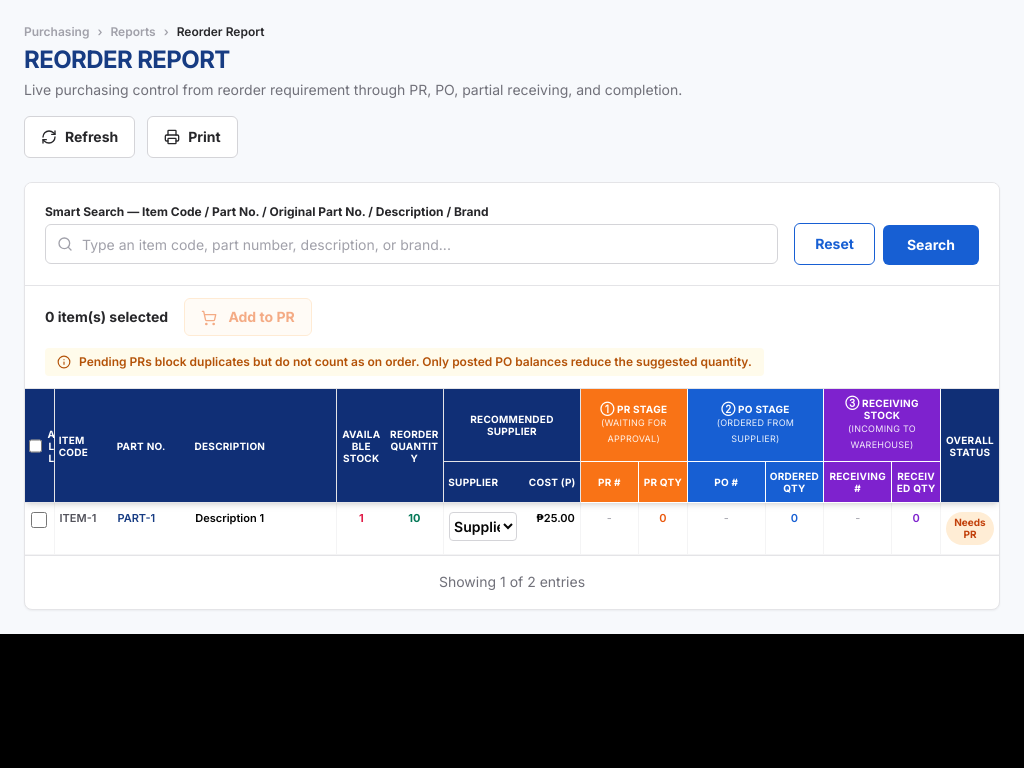
Test case: ReorderReport automatic loading › keeps Add to PR accessible above the list while more items load
This screenshot has width=1024, height=768.
Expected: the text "ITEM-1" is shown, [54,502,113,554]
Click the checkbox named "Select ITEM-1".
click(39, 520)  # box [31,512,47,528]
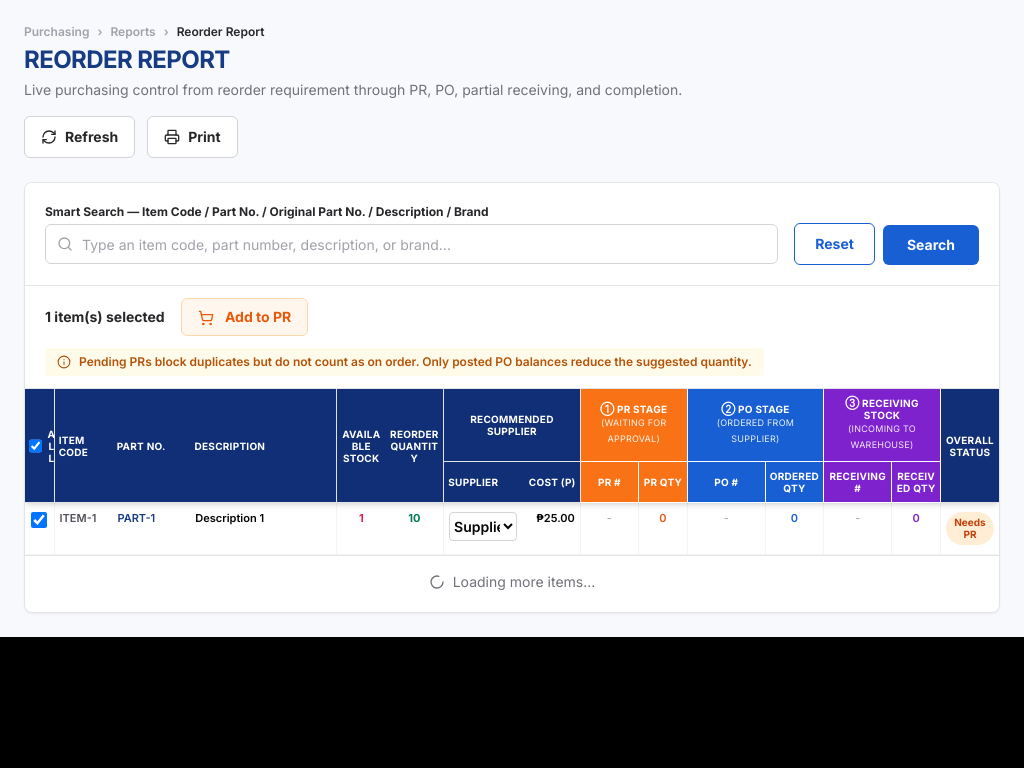
Result: the button "Add to PR" is enabled
Result: the text "Loading more items..." is shown at [429,572,595,592]
Click the button "Add to PR".
click(244, 317)  # box [181,298,308,336]
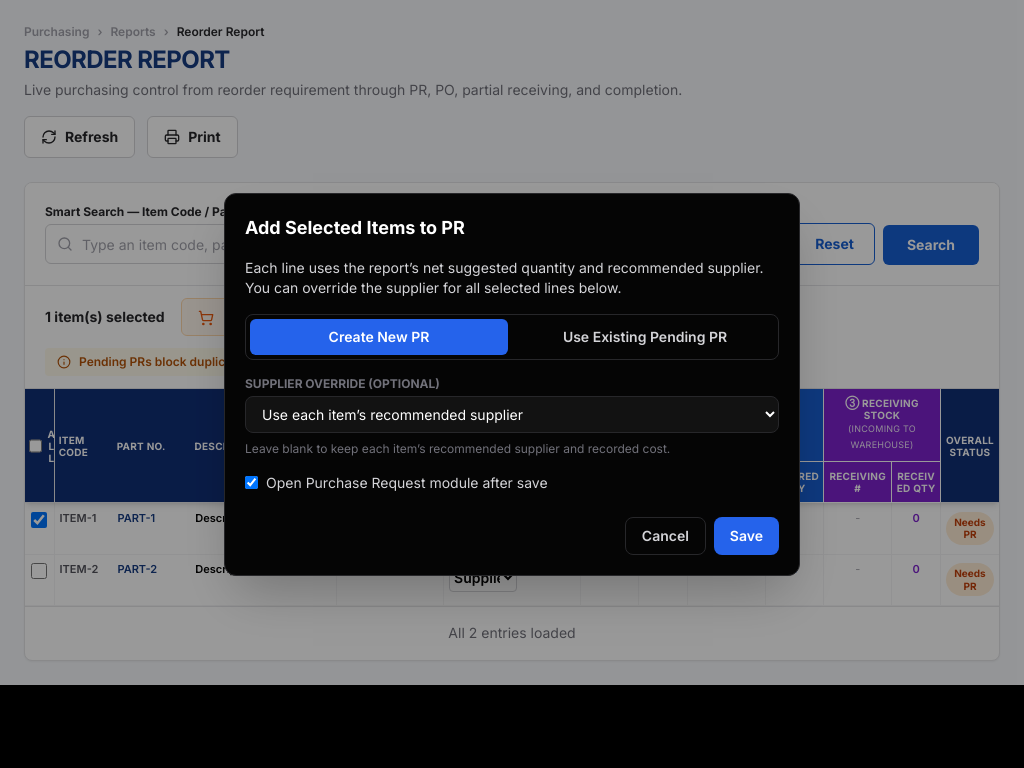
Result: the text "Each line uses the report’s net suggested quantity and recommended supplier. You can override the supplier for all selec" is shown at [245,258,764,296]
